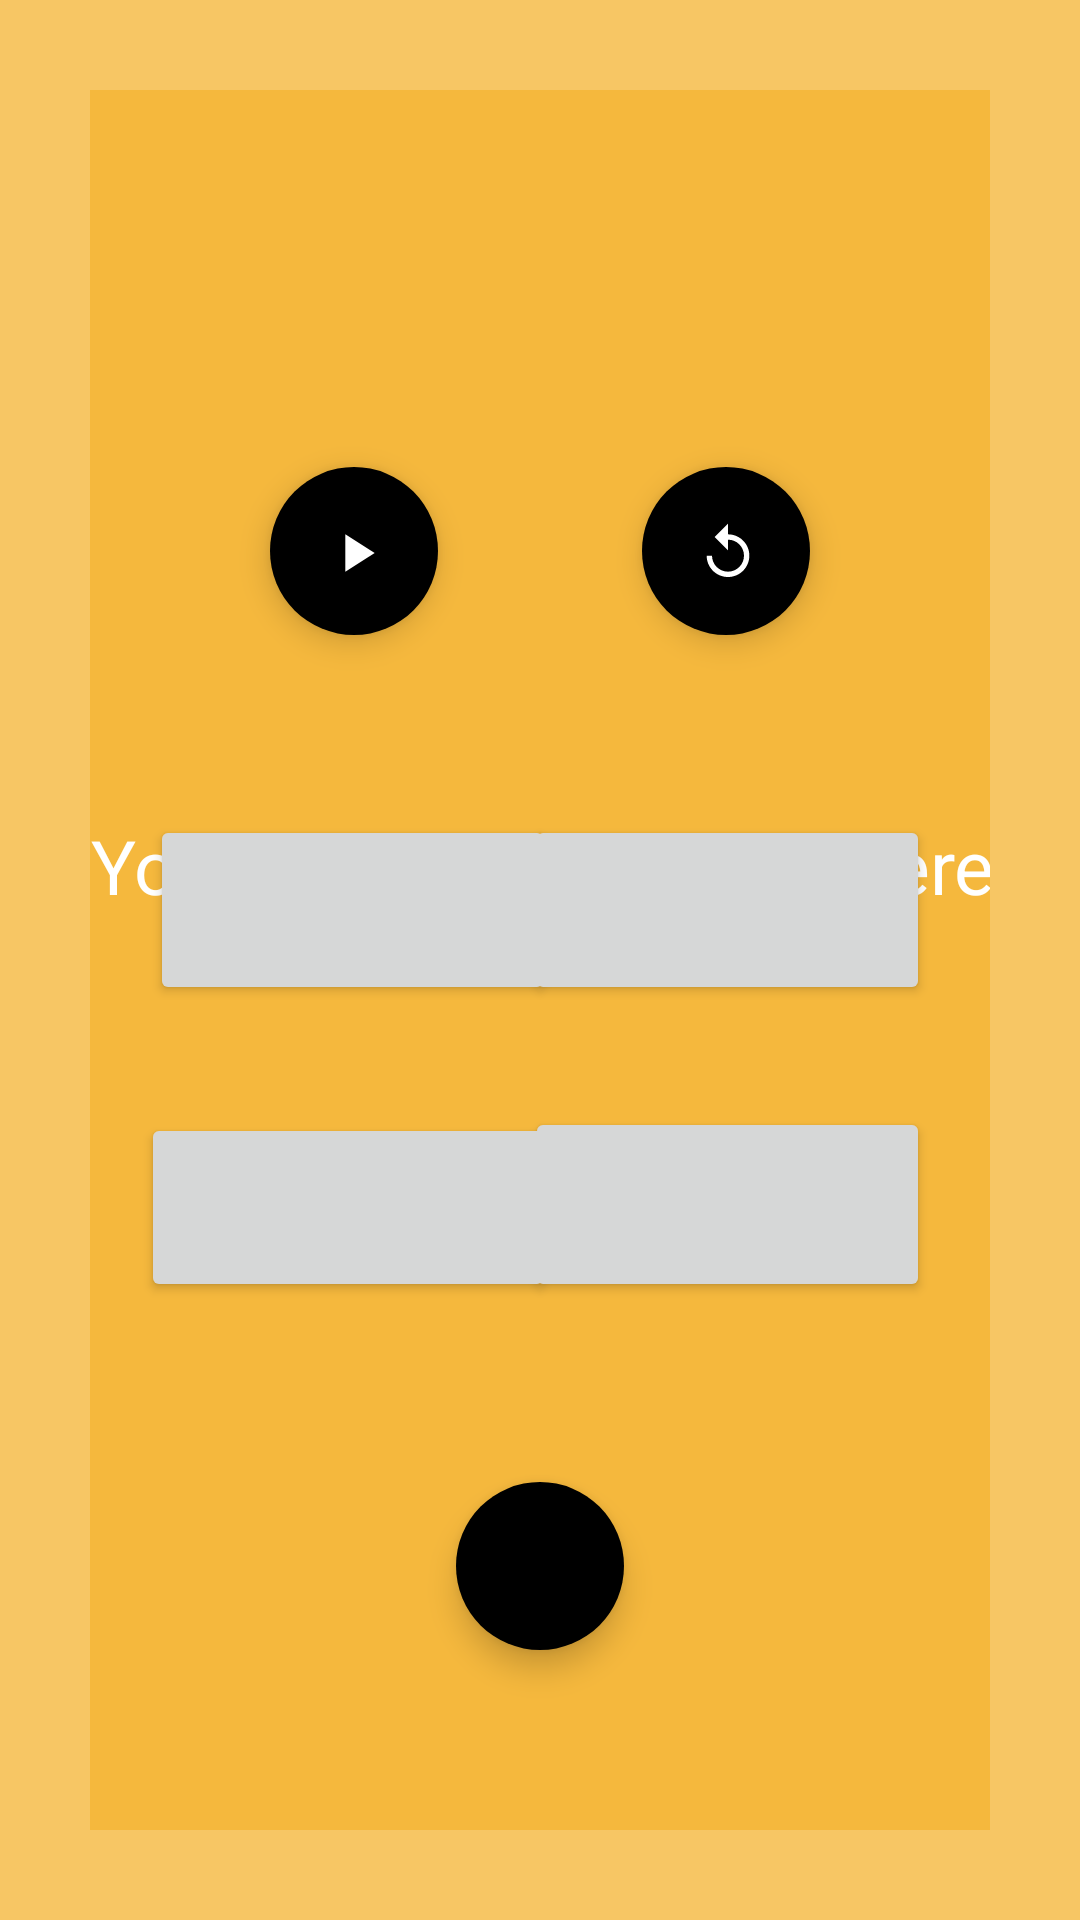

Icon click points for this 1080×1920 phone screenshot, format point (x, y):
play arrow: point (354, 551)
replay: point (726, 551)
